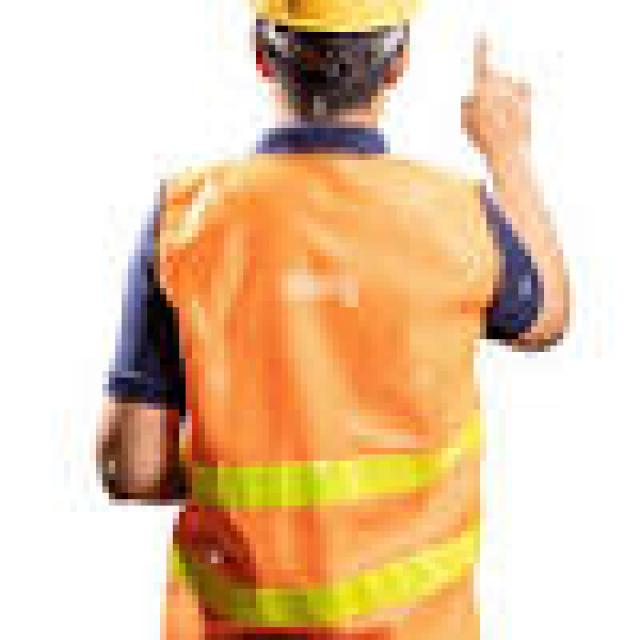Reflective-Jacket: (141, 128, 518, 614)
Safety-Helmet: (218, 0, 448, 45)
